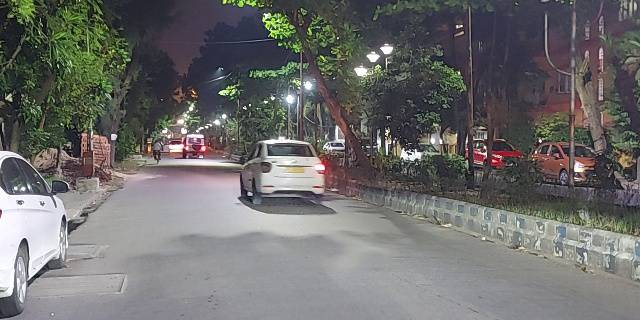Car: (240, 140, 323, 204)
